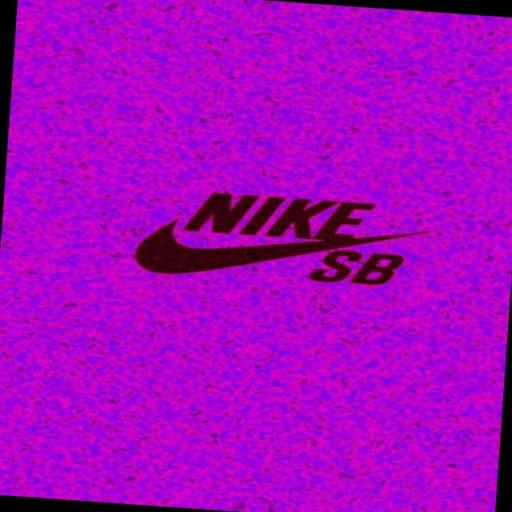Nike: (132, 222, 382, 290), (182, 186, 380, 246)
